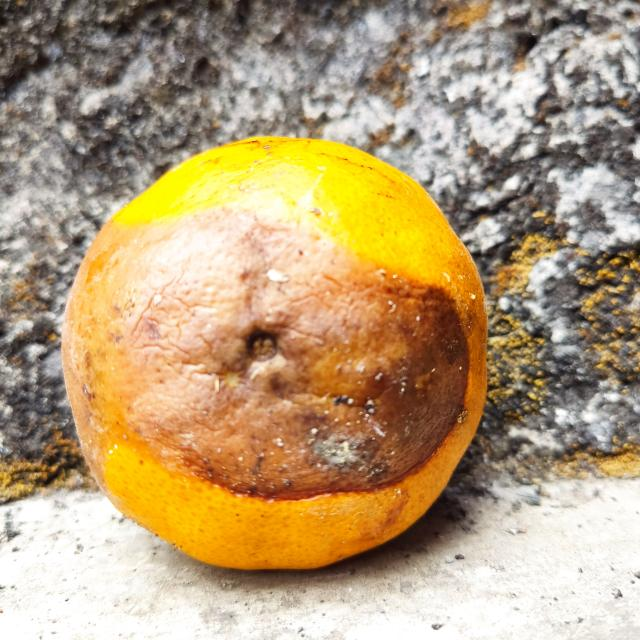orange: (58, 135, 490, 569)
